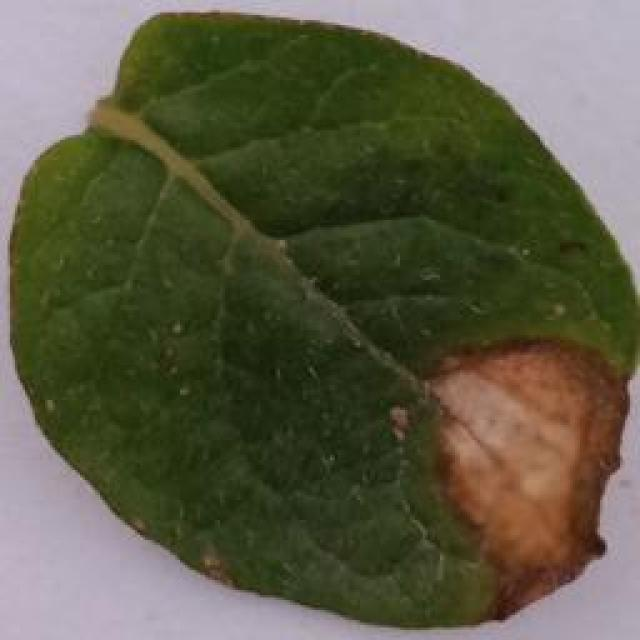Potato_Late_Blight: (7, 12, 626, 630)
